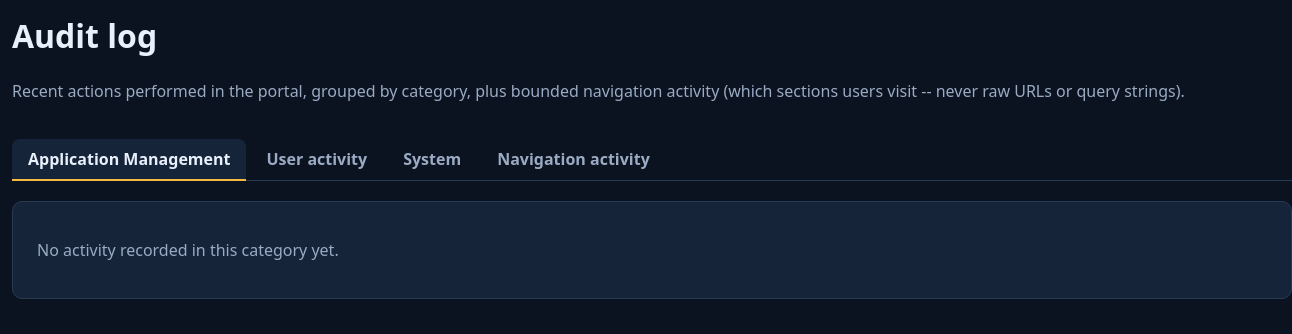
AuditView › shows the Navigation activity tab with section/visit-count data
Click the button "Navigation activity" at (574,160), box [481,139,666,181]
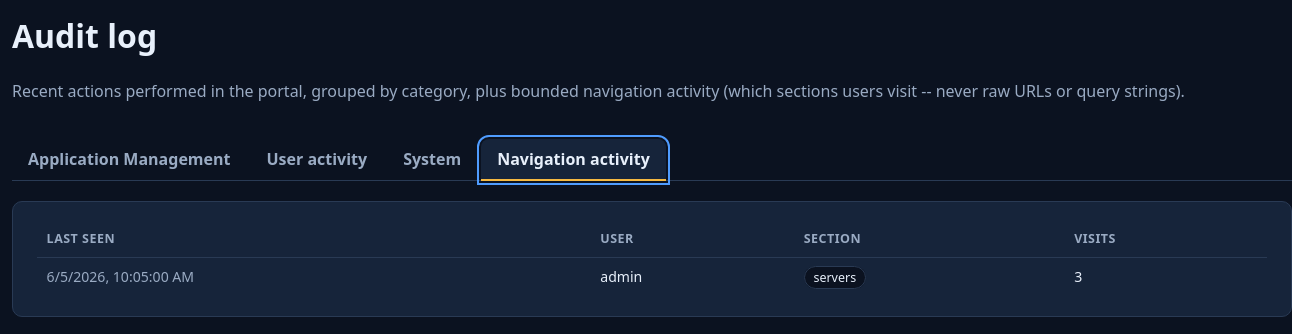
Expected: the text "servers" is shown, [804,266,866,289]
Expected: the text "3" is shown, [1064,257,1267,296]
Expected: the text "admin" is shown, [591,257,794,296]
